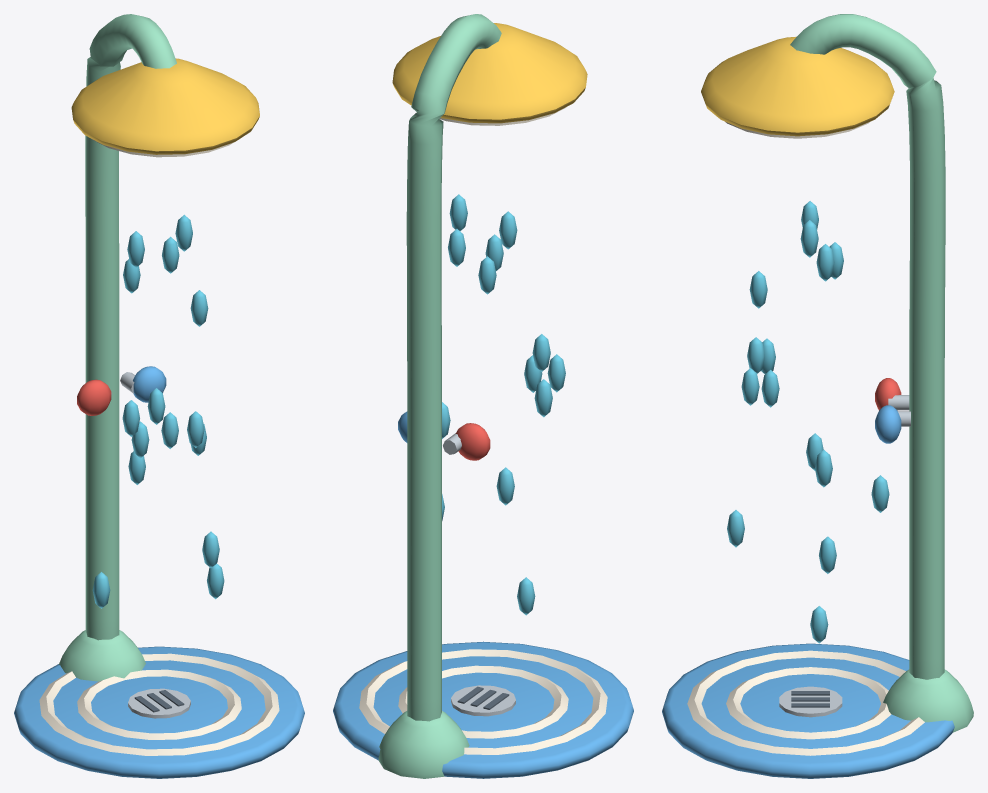
Rendered from prop_shower.glb.
3 renders of one model, left to right at view 1: azimuth 30°, elevation 25°; view 2: azimuth 150°, elevation 25°; view 3: azimuth 270°, elevation 25°, orthographic. The views are drawn at different scales.
Parts seen in each view (by area): view 1: prop_shower, spray; view 2: prop_shower, spray; view 3: prop_shower, spray.
Boxes of the visible parts, bbox=[...] form: prop_shower: bbox=[14, 14, 304, 778]; spray: bbox=[92, 214, 224, 608]; prop_shower: bbox=[333, 14, 633, 778]; spray: bbox=[442, 194, 565, 615]; prop_shower: bbox=[662, 14, 973, 778]; spray: bbox=[727, 201, 889, 643].
Size of the model in its own units: 0.92 by 2.46 by 0.9651.
